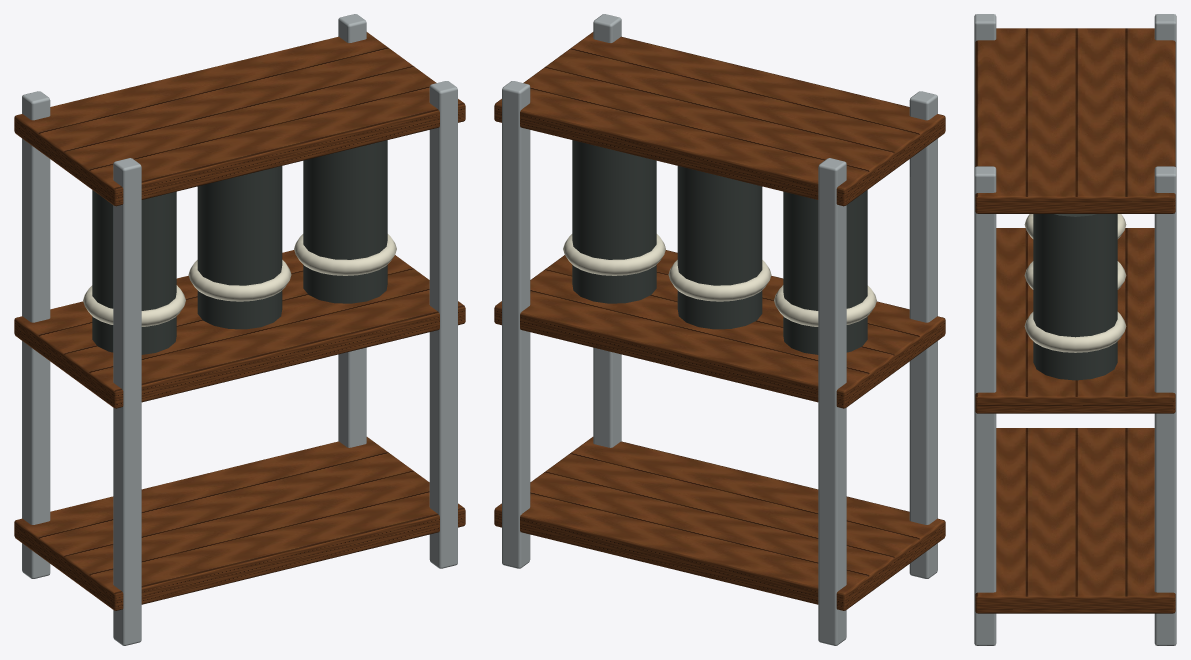
The model's file is flooded-and-coastal-survival-fender-storage-rack-e8492f9c__20094.glb.
The picture shows the model from 3 angles, left to right: view 1: azimuth 30°, elevation 25°; view 2: azimuth 150°, elevation 25°; view 3: azimuth 270°, elevation 25°; orthographic projection.
Parts seen in each view (by area): view 1: fender-storage-rack; view 2: fender-storage-rack; view 3: fender-storage-rack.
Part boxes in pixels (x1=…): fender-storage-rack: x1=14, y1=14, x2=465, y2=645; fender-storage-rack: x1=494, y1=14, x2=945, y2=645; fender-storage-rack: x1=974, y1=14, x2=1176, y2=645.
Bounding box in the file's own units: 1 × 1.3 × 0.505.
Materials: 4 (1 with a texture image).
